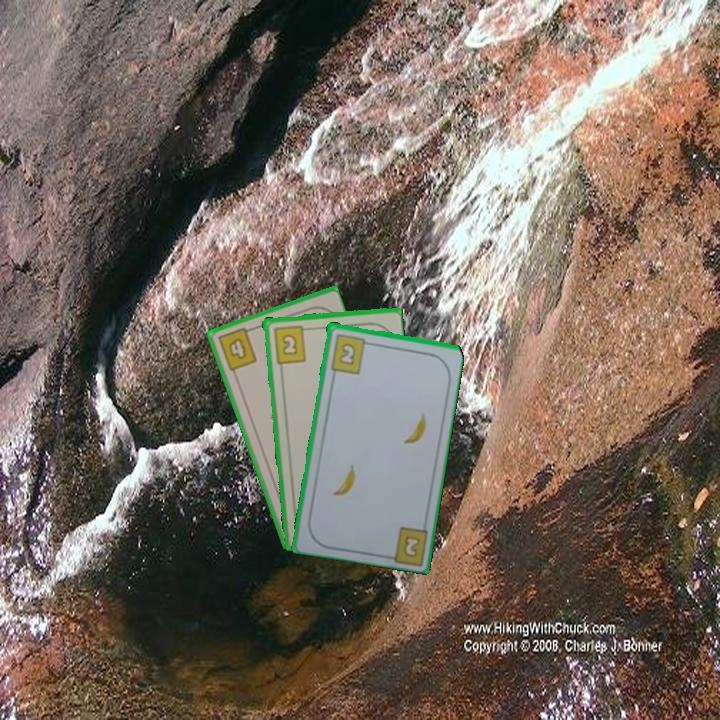2b: (327, 330, 374, 376), (270, 321, 312, 366), (401, 532, 423, 558)
4b: (214, 324, 260, 374)
